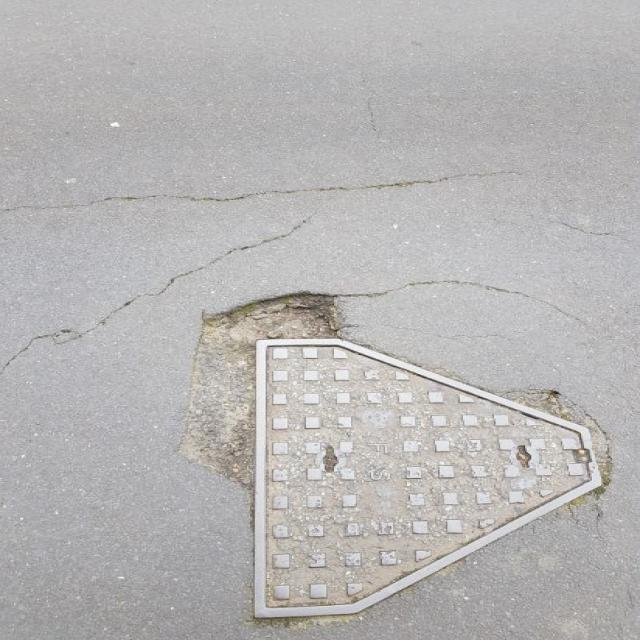pothole: (166, 286, 342, 490)
